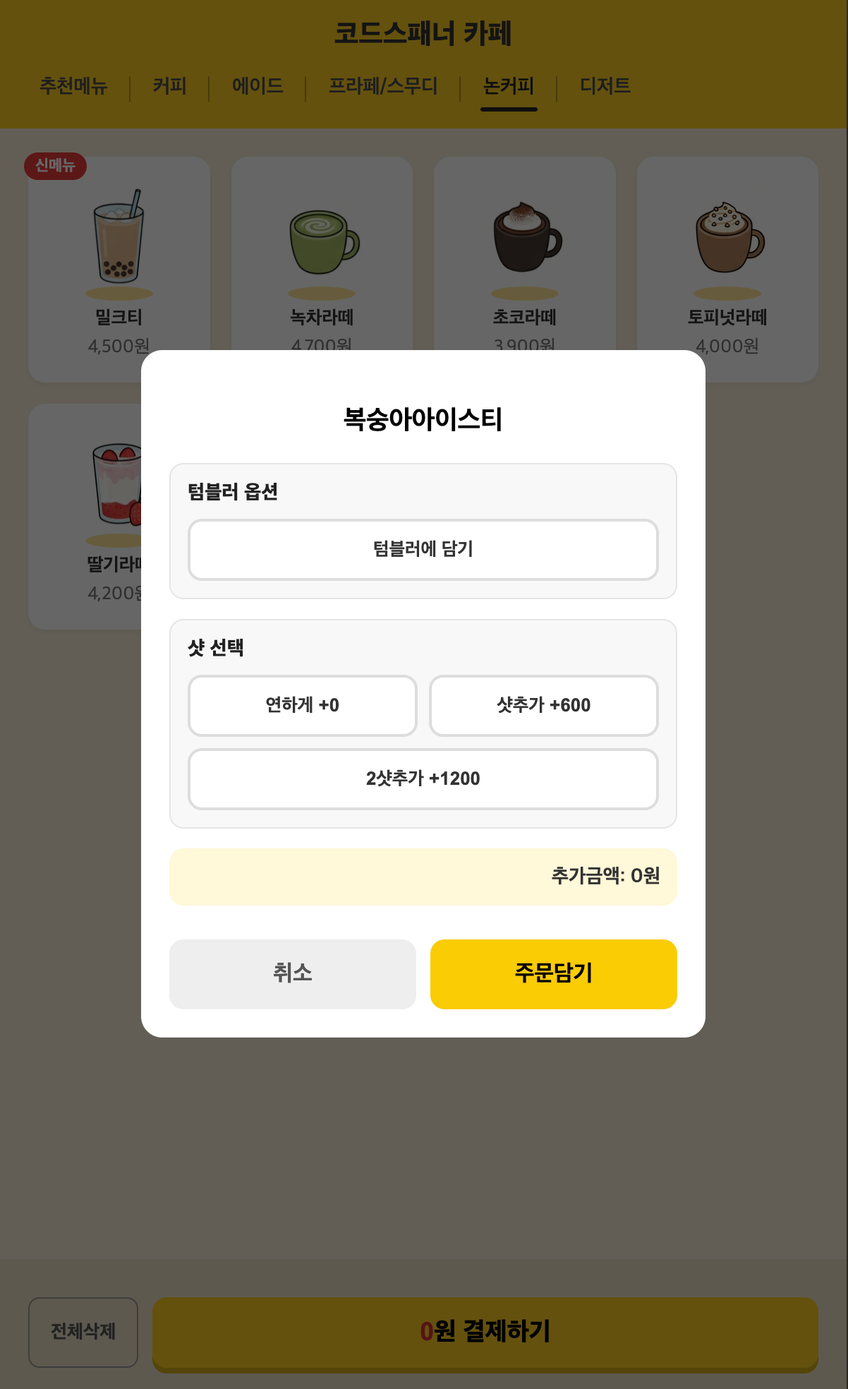action_button: (187, 518, 659, 581), (187, 748, 659, 811), (429, 938, 677, 1008), (168, 938, 416, 1008), (187, 674, 418, 737), (429, 674, 659, 737)
popup_modal: (140, 350, 706, 1040)
